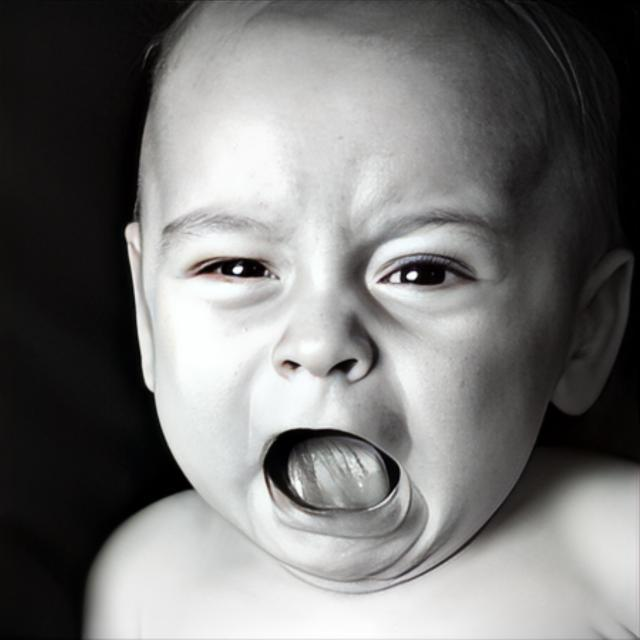anger: (142, 34, 566, 590)
